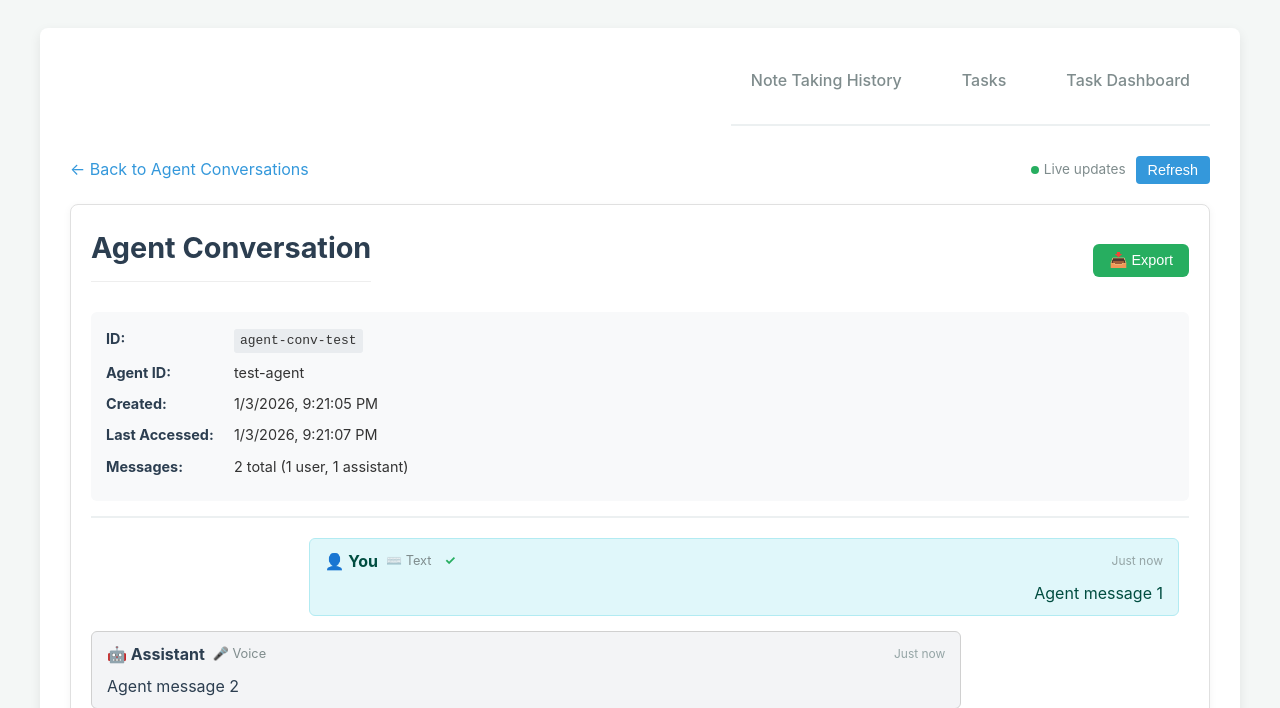
it: AgentConversationDetailView › Manual refresh › updates conversation after successful refresh
Expected: the text "Agent message 1" is shown, [1034,583,1163,603]
Click the button "Refresh" at {"x": 1173, "y": 170}, box [1136,156,1210,184]
(page scrolled)
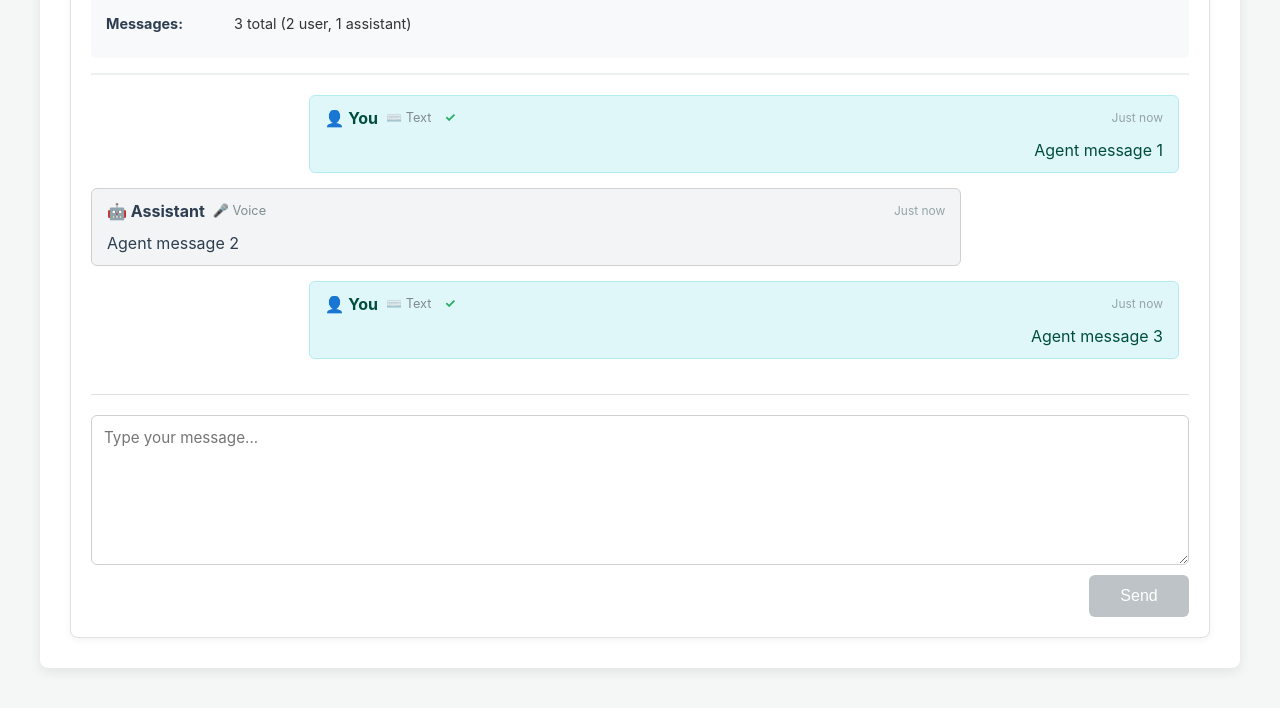
Result: the text "Agent message 3" is shown at [1031,326,1163,346]
